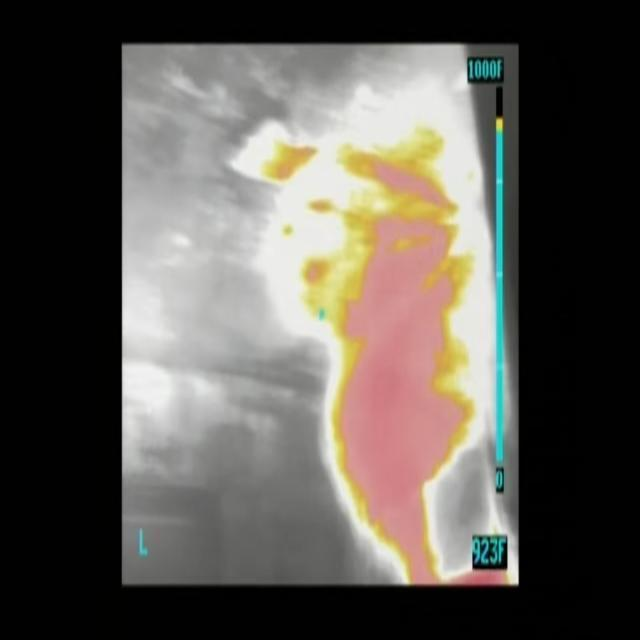fire: (301, 129, 477, 587)
